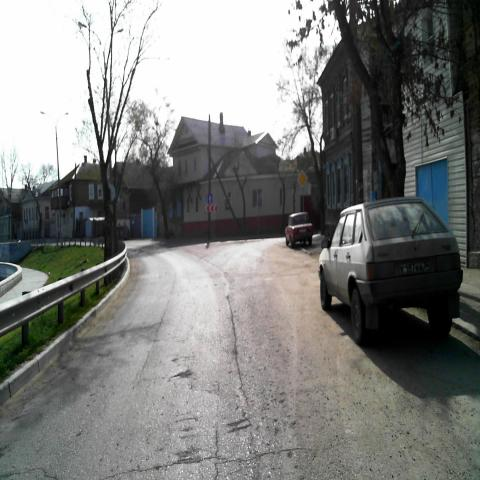2_1: (297, 170, 308, 187)
5_5: (208, 192, 213, 202)
